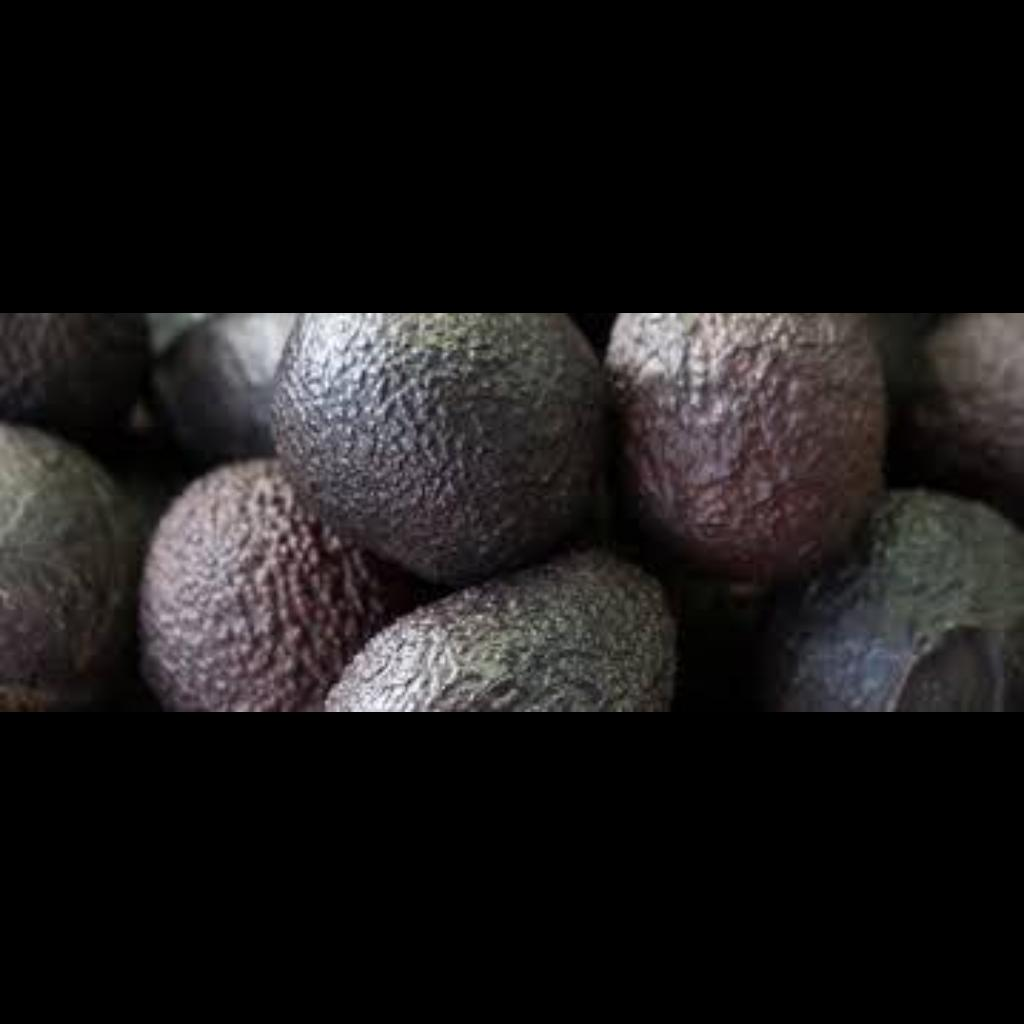Anthracnose: (282, 324, 586, 682), (607, 321, 901, 529), (840, 570, 1014, 688)
